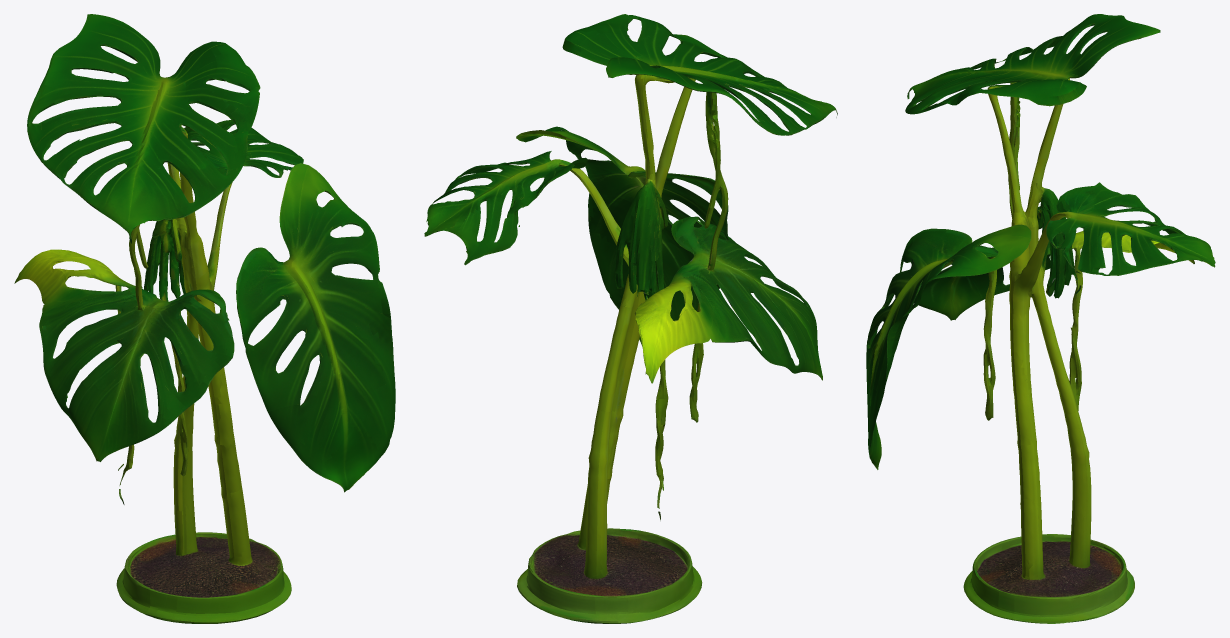
The model's file is raw_meshy_model.glb.
3 renders of one model, left to right at view 1: azimuth 30°, elevation 25°; view 2: azimuth 150°, elevation 25°; view 3: azimuth 270°, elevation 25°, orthographic. The views are drawn at different scales.
Size of the model in its own units: 1.06 by 1.9 by 1.13.
Materials: 1 (1 with a texture image).
